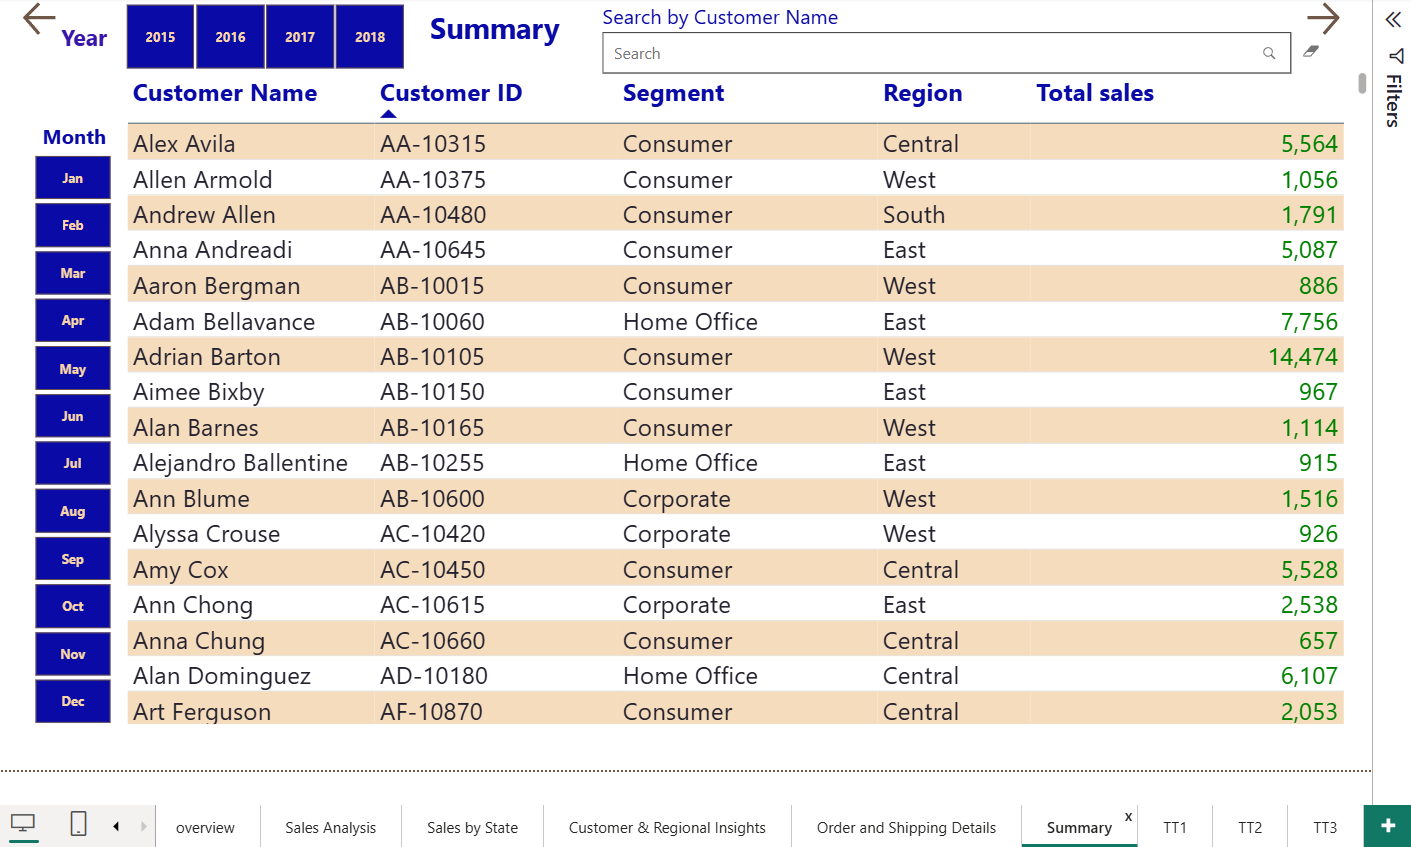

This screenshot's page, from the dashboard's own definition file:
{"tool":"powerbi","page":{"name":"Summary","canvas":[1280,720],"ordinal":5},"visuals":[{"type":"tableEx","fields":{"Values":["Dim_Customer.Customer Name","Dim_Customer.Customer ID","Dim_Customer.Segment","Dim_Region.Region","DAX measures.Total sales"]},"box":[116.2,64.8,1164.1,616.3],"z":0},{"type":"slicer","fields":{"Values":["Calendar.Month"]},"box":[11,140.6,119.8,541.7],"z":1000},{"type":"textFilter25A4896A83E0487089E2B90C9AE57C8A","fields":{"field":["Dim_Customer.Customer Name"]},"box":[558.8,28.1,688.5,55],"z":2000},{"type":"textbox","box":[37.9,111.3,137,41.6],"z":3000},{"type":"textbox","box":[558.8,0,299.6,44],"z":4000},{"type":"textbox","box":[398.6,6.1,299.6,59.9],"z":5000},{"type":"slicer","fields":{"Values":["Calendar.Year"]},"box":[95.4,0,308.2,73.4],"z":6000},{"type":"textbox","box":[56.3,17.1,74.6,40.4],"z":7000},{"type":"actionButton","box":[1214.3,0,66,40.4],"z":8000},{"type":"actionButton","box":[20.8,0,101.5,40.4],"z":9000}]}

Visuals, with their boxes on the page's 1280x720 design canvas (x1, y1, x2, y2). These are canvas units, not pixel positions in the 1411x847 screenshot, which may show the page scaled, cropped or inside an application window:
tableEx - Dim_Customer.Customer Name x Dim_Customer.Customer ID: crop(116, 65, 1280, 681)
slicer - Calendar.Month: crop(11, 141, 131, 682)
textFilter25A4896A83E0487089E2B90C9AE57C8A - Dim_Customer.Customer Name: crop(559, 28, 1247, 83)
textbox: crop(38, 111, 175, 153)
textbox: crop(559, 0, 858, 44)
textbox: crop(399, 6, 698, 66)
slicer - Calendar.Year: crop(95, 0, 404, 73)
textbox: crop(56, 17, 131, 58)
actionButton: crop(1214, 0, 1280, 40)
actionButton: crop(21, 0, 122, 40)
